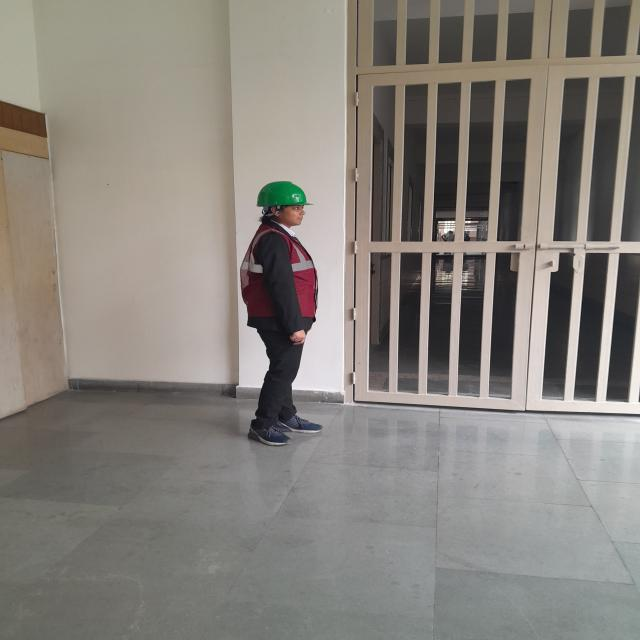safe: (240, 181, 326, 446)
